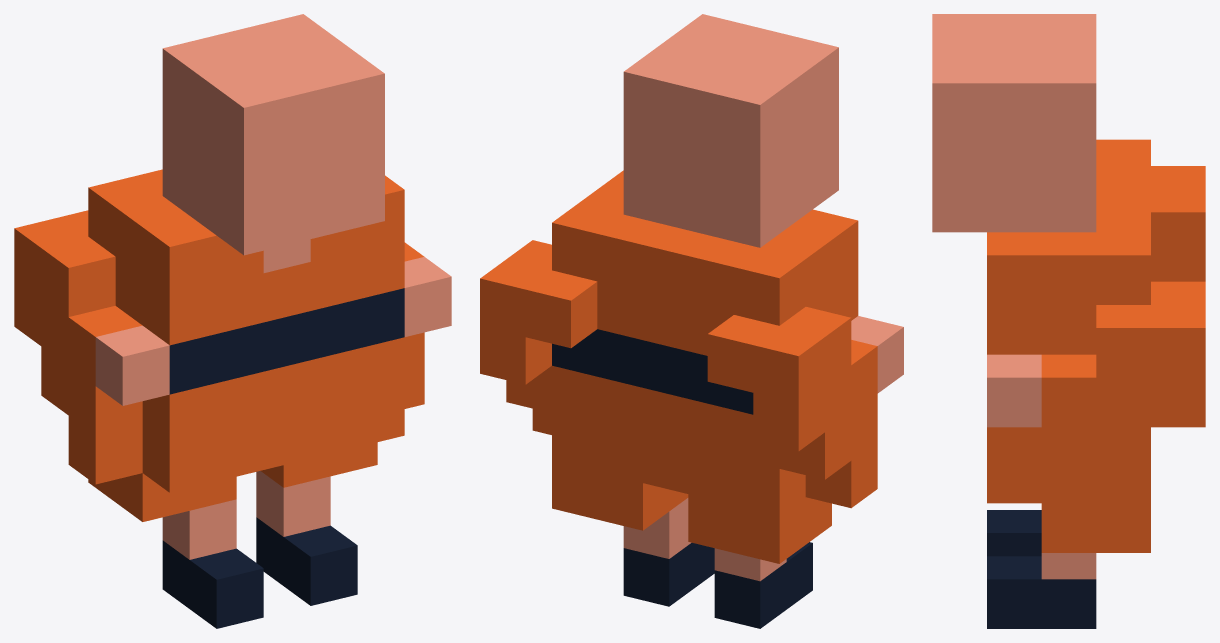
Rendered from monk_action_0.obj.
3 views of the same model, side by side, from view 1: azimuth 30°, elevation 25°; view 2: azimuth 150°, elevation 25°; view 3: azimuth 270°, elevation 25° (orthographic). The views are drawn at different scales.
Size of the model in its own units: 0.7 by 1.1 by 0.5.
Materials: 1 (1 with a texture image).
